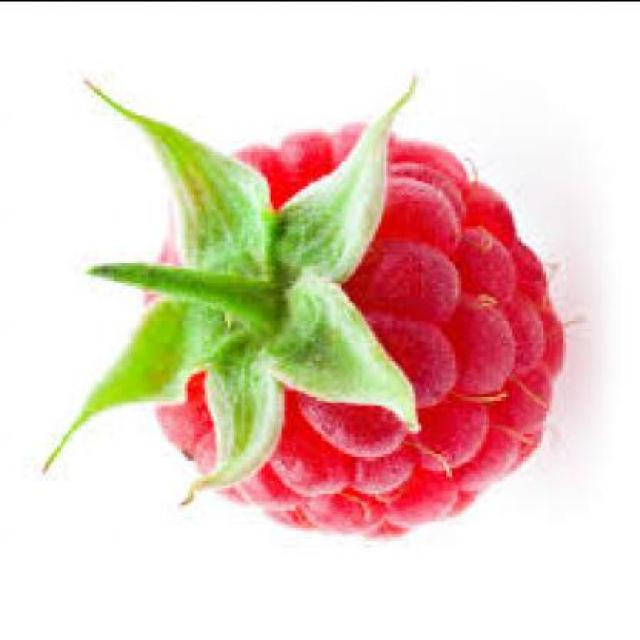BIODEGRADABLE: (40, 71, 563, 532)
